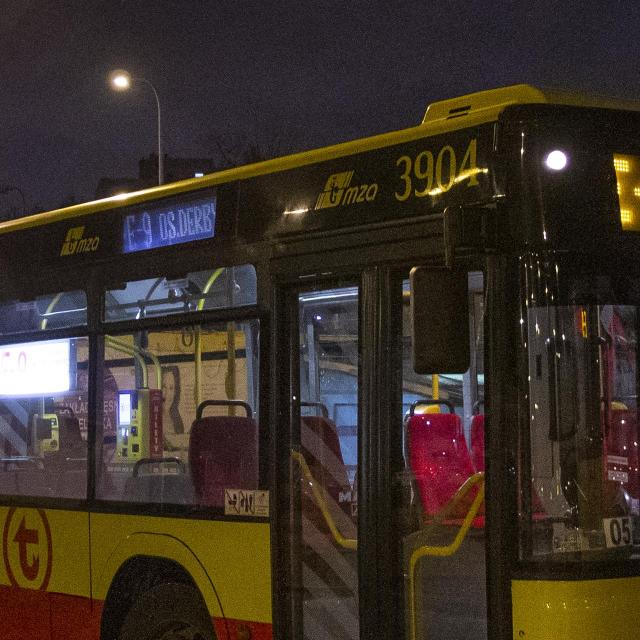Bus: (0, 84, 640, 640)
